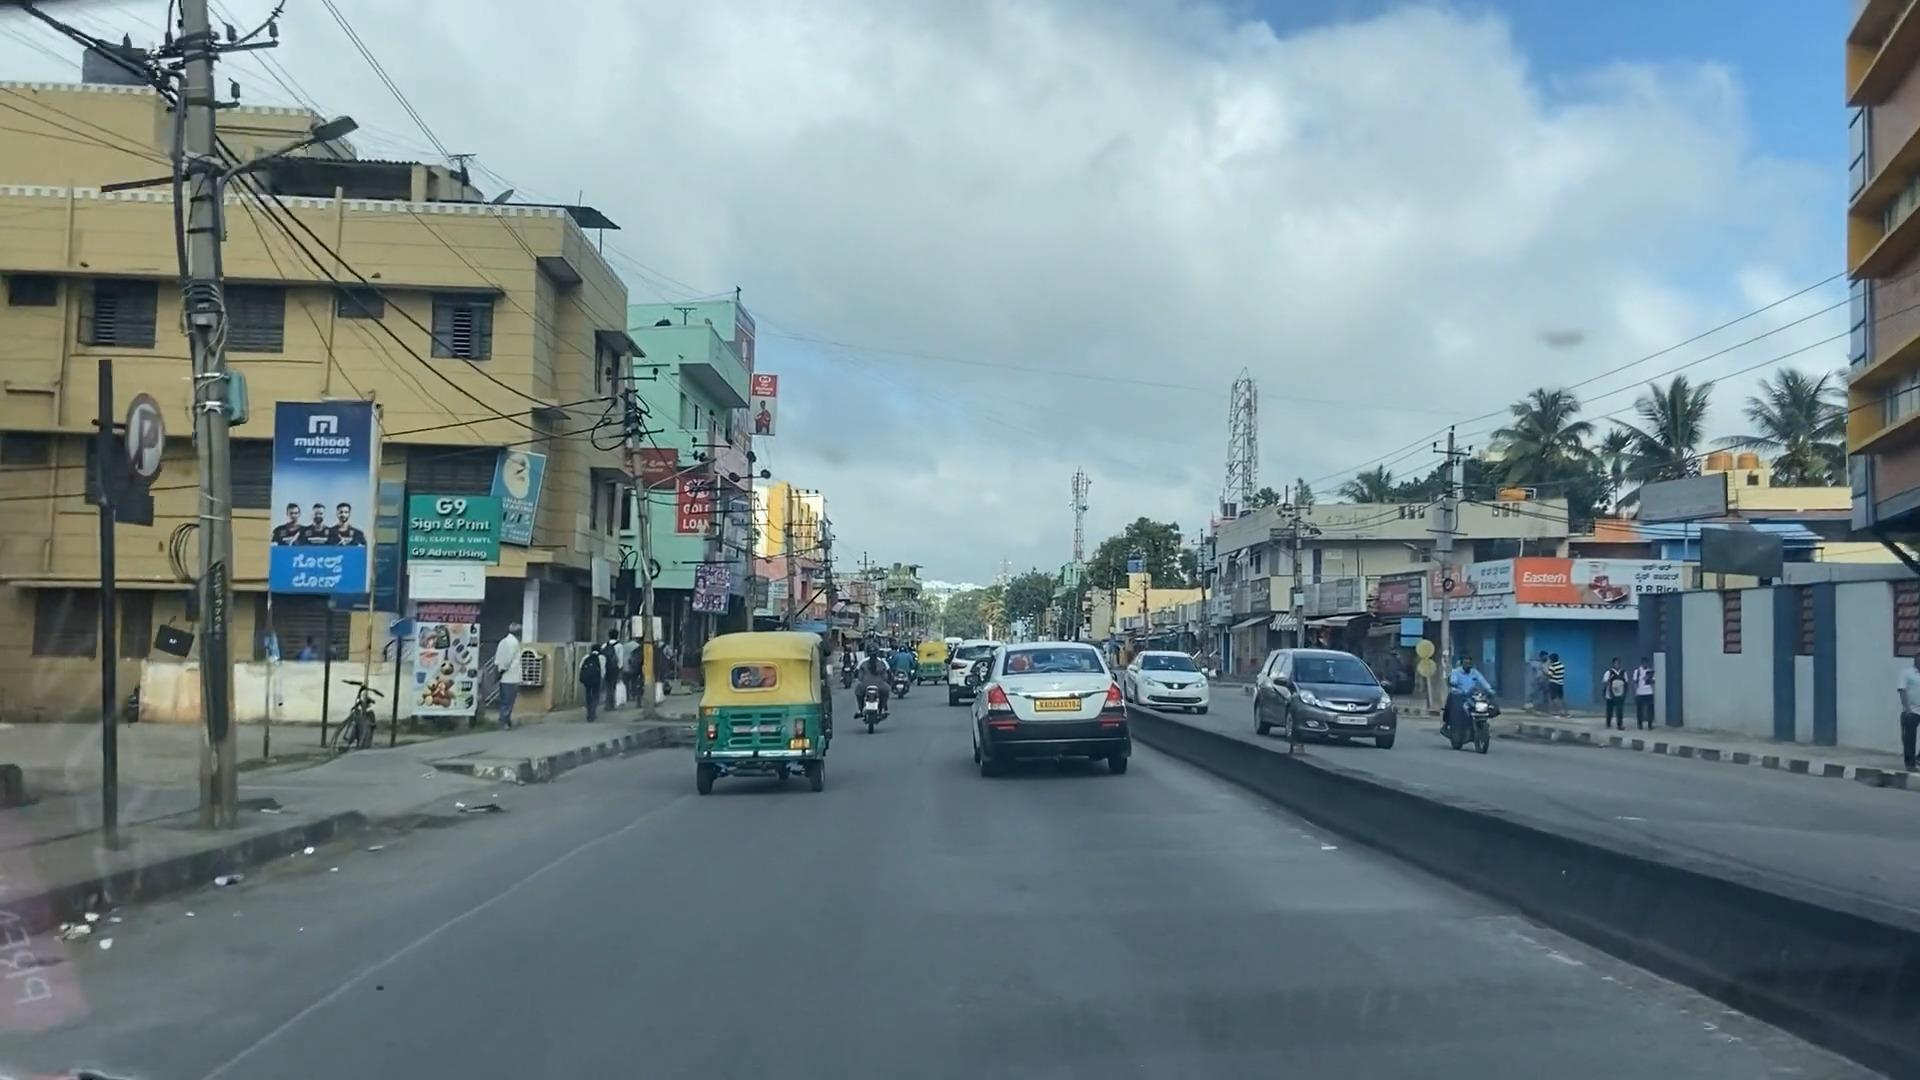LMV: (688, 618, 833, 791), (978, 636, 1150, 777)
RoadDamages: (265, 894, 488, 1056), (527, 791, 644, 885)
